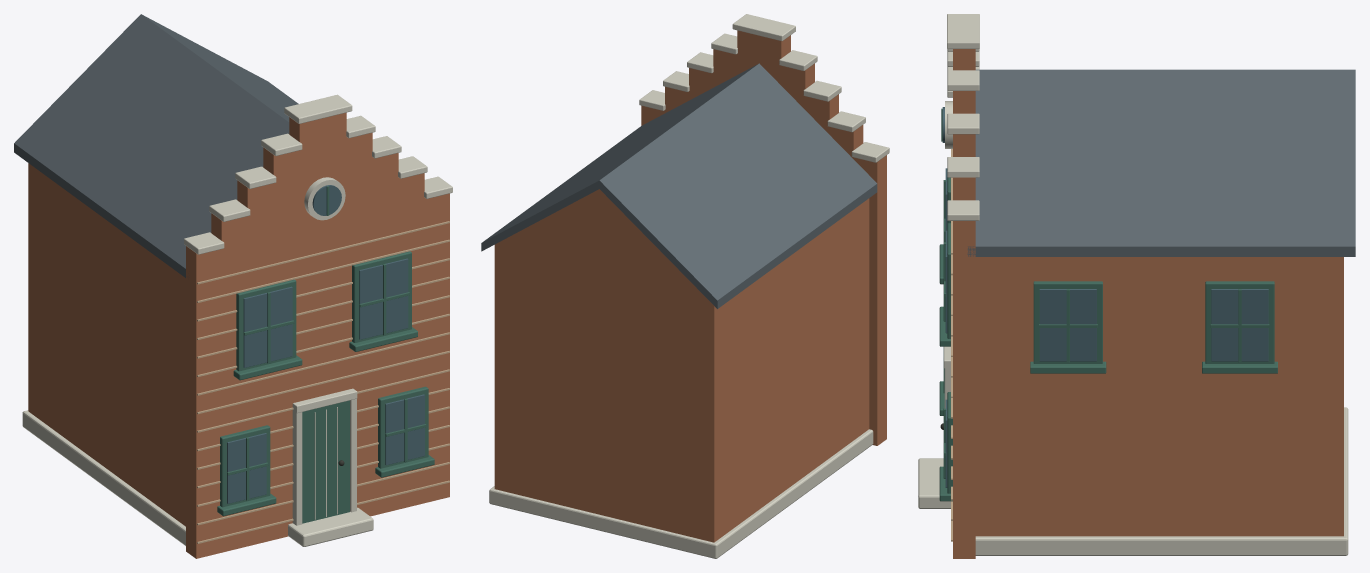
The model's file is small_dutch_step_gable.glb.
3 views of the same model, side by side, from view 1: azimuth 30°, elevation 25°; view 2: azimuth 150°, elevation 25°; view 3: azimuth 270°, elevation 25° (orthographic). The views are drawn at different scales.
Visible parts, largest first — view 1: Step-gable complete stepped front facade, Step-gable closed narrow brick house, Step-gable roof behind facade, Step-gable central green entry closed door slab, Step-gable low stone plinth, Step-gable upper sash window dark glazing, Step-gable upper sash window dark glazing.001, Step-gable ground floor window dark glazing.001, Step-gable ground floor window dark glazing, Step-gable front doorstep, Step-gable upper sash window timber surround, Step-gable upper sash window timber surround.001 (+23 smaller); view 2: Step-gable closed narrow brick house, Step-gable roof behind facade, Step-gable complete stepped front facade, Step-gable low stone plinth, Step-gable stone top coping, Step-gable stone coping step.002, Step-gable stone coping step.004, Step-gable stone coping step.006, Step-gable stone coping step; view 3: Step-gable closed narrow brick house, Step-gable roof behind facade, Step-gable complete stepped front facade, Step-gable low stone plinth, Step-gable side upper window glazing.001, Step-gable side upper window glazing, Step-gable side upper window surround.001, Step-gable side upper window surround, Step-gable front doorstep, Step-gable stone top coping, Step-gable side upper window projecting sill, Step-gable side upper window projecting sill.001 (+4 smaller).
Boxes of the visible parts, box(x1,y1,x2,y2) form: Step-gable complete stepped front facade: box(186, 112, 449, 558); Step-gable closed narrow brick house: box(28, 163, 185, 526); Step-gable roof behind facade: box(14, 14, 298, 277); Step-gable central green entry closed door slab: box(302, 400, 349, 523); Step-gable low stone plinth: box(22, 410, 185, 545); Step-gable upper sash window dark glazing: box(243, 286, 292, 367); Step-gable upper sash window dark glazing.001: box(359, 258, 408, 339); Step-gable ground floor window dark glazing.001: box(385, 394, 424, 465); Step-gable ground floor window dark glazing: box(227, 433, 266, 503); Step-gable front doorstep: box(288, 507, 373, 546); Step-gable upper sash window timber surround: box(236, 279, 296, 371); Step-gable upper sash window timber surround.001: box(352, 251, 411, 342); Step-gable closed narrow brick house: box(494, 189, 869, 542); Step-gable roof behind facade: box(481, 63, 877, 308); Step-gable complete stepped front facade: box(641, 30, 886, 445); Step-gable low stone plinth: box(489, 429, 873, 558); Step-gable stone top coping: box(732, 14, 795, 41); Step-gable stone coping step.002: box(827, 111, 865, 132); Step-gable stone coping step.004: box(803, 80, 841, 101); Step-gable stone coping step.006: box(779, 50, 817, 70); Step-gable stone coping step: box(851, 142, 889, 162); Step-gable closed narrow brick house: box(975, 257, 1343, 536); Step-gable roof behind facade: box(967, 69, 1355, 256); Step-gable complete stepped front facade: box(953, 49, 975, 558); Step-gable low stone plinth: box(975, 407, 1348, 555); Step-gable side upper window glazing.001: box(1211, 289, 1268, 361); Step-gable side upper window glazing: box(1039, 289, 1096, 361); Step-gable side upper window surround.001: box(1205, 281, 1274, 363); Step-gable side upper window surround: box(1033, 281, 1102, 363); Step-gable front doorstep: box(918, 458, 950, 508); Step-gable stone top coping: box(947, 14, 979, 48); Step-gable side upper window projecting sill: box(1030, 361, 1106, 373); Step-gable side upper window projecting sill.001: box(1202, 361, 1277, 373).
Size of the model in its own units: 4.33 by 6.77 by 5.8.
